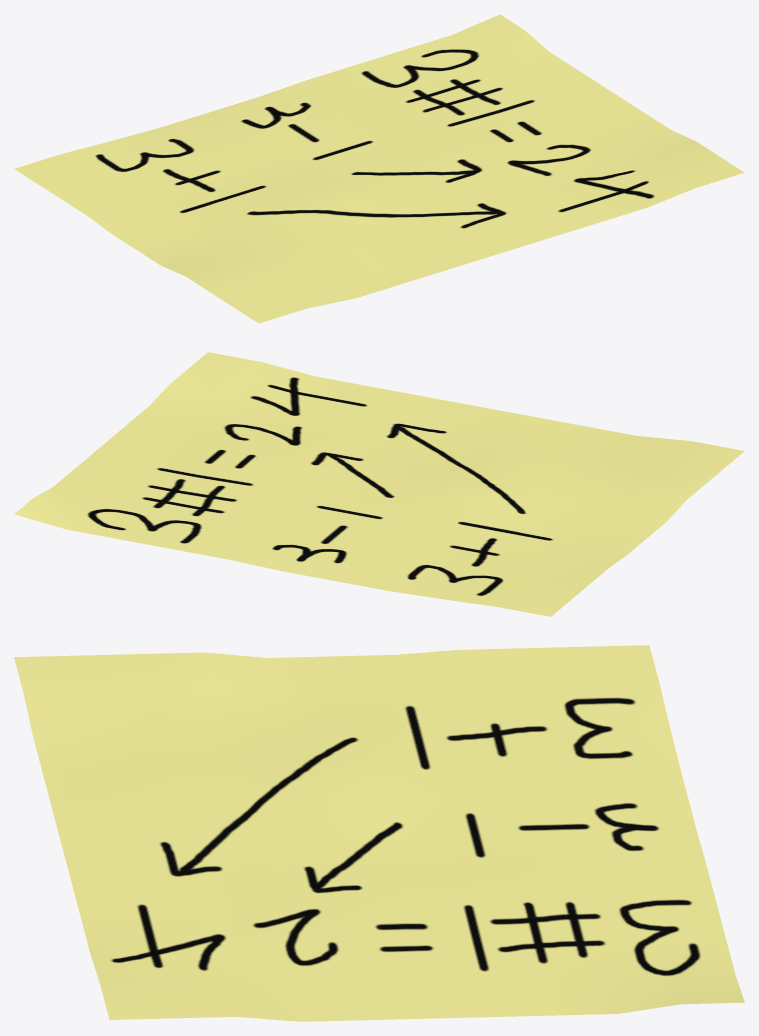
Rendered from tipPaper.glb.
3 renders of one model, top to bottom at view 1: azimuth 30°, elevation 25°; view 2: azimuth 150°, elevation 25°; view 3: azimuth 270°, elevation 25°, orthographic. The views are drawn at different scales.
Visible parts, largest first — view 1: Object_2; view 2: Object_2; view 3: Object_2.
Part boxes in pixels (bbox=[...]): Object_2: bbox=[14, 14, 744, 323]; Object_2: bbox=[14, 352, 744, 616]; Object_2: bbox=[14, 645, 744, 1021].
Size of the model in its own units: 7.86 by 0.1044 by 6.43.
1 material, 1 textured.
